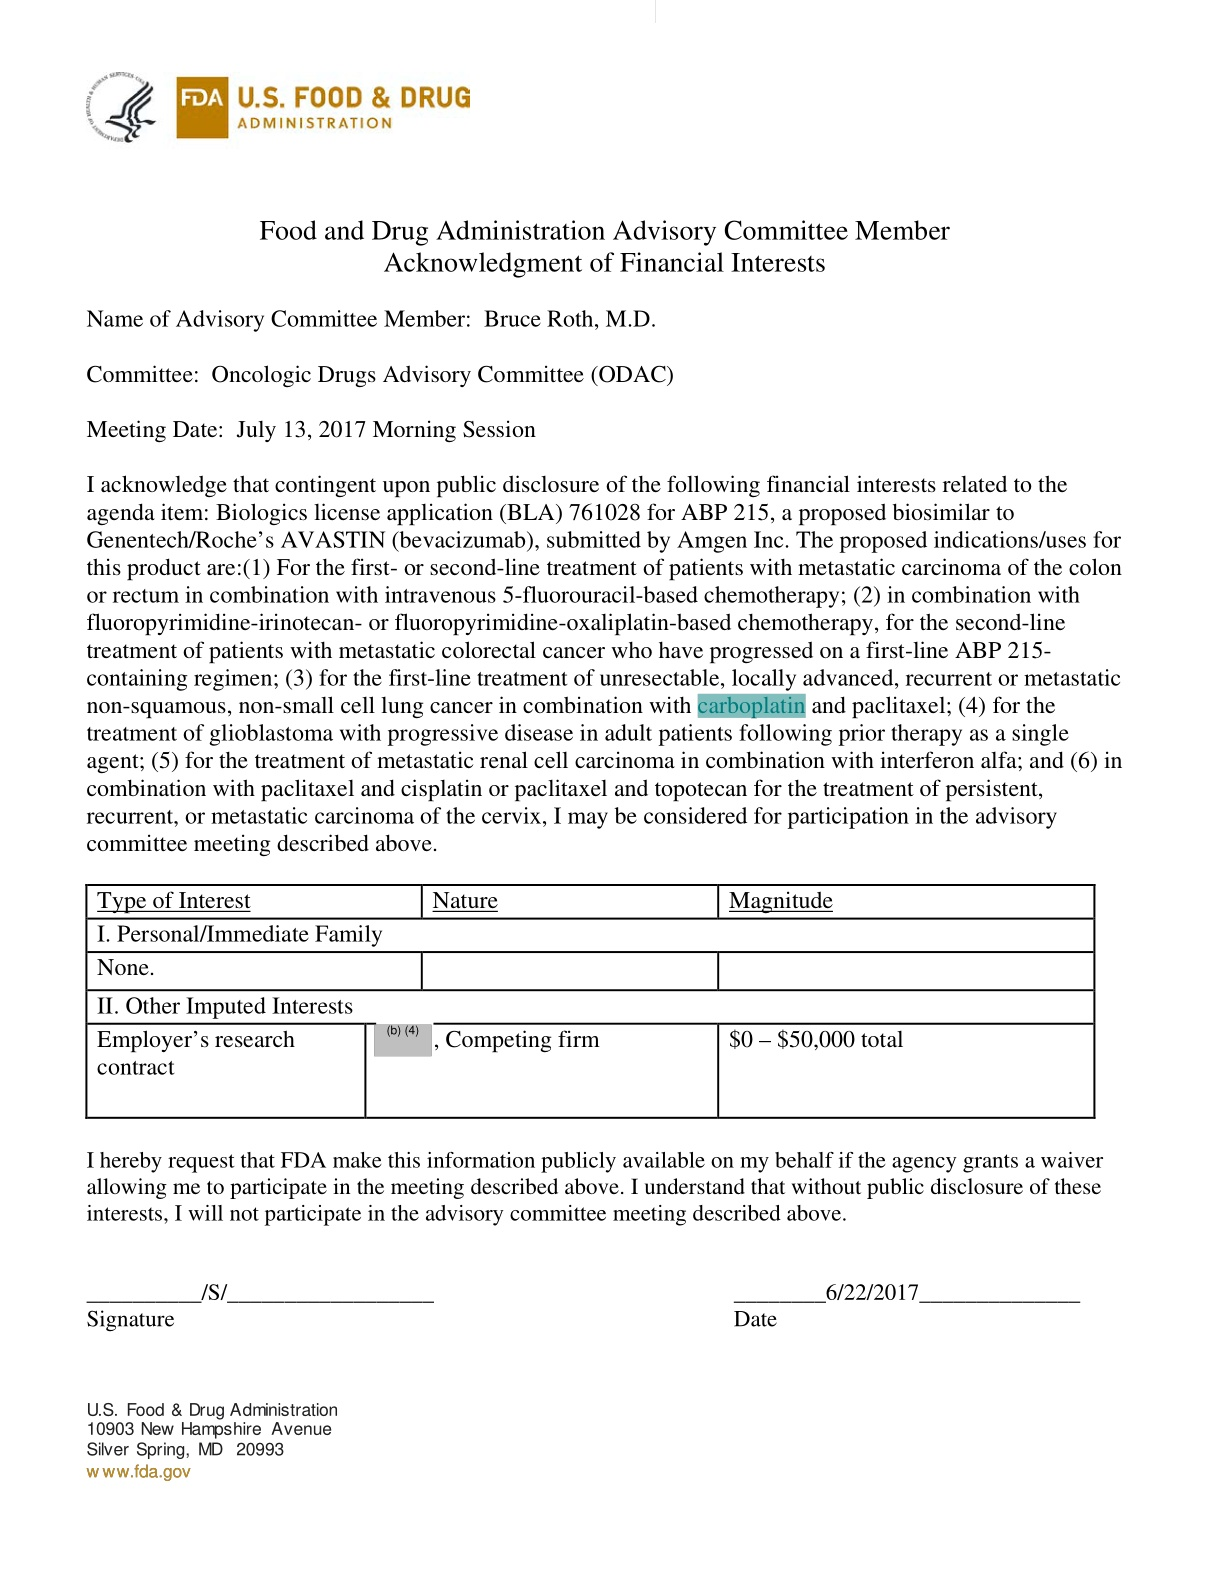merged_cells: (85, 883, 1097, 1120)
